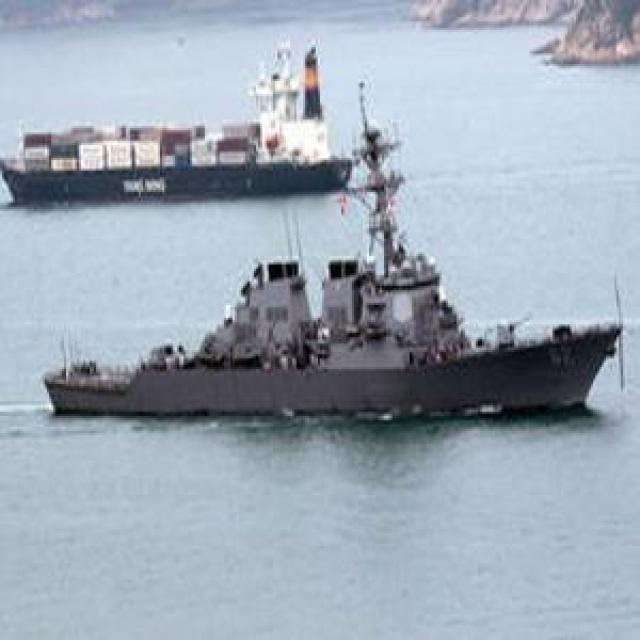cargoship: (0, 32, 347, 205)
navalvessels: (41, 126, 605, 430)
